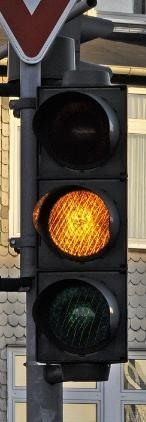yellow_light: (32, 85, 128, 362)
